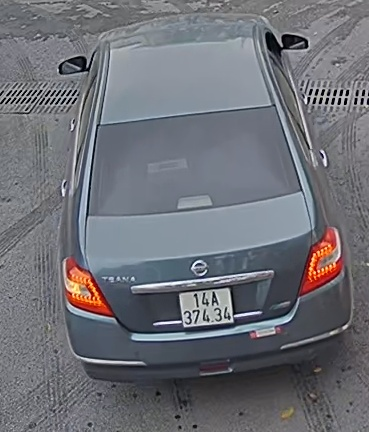vehicle plate: (177, 285, 236, 330)
